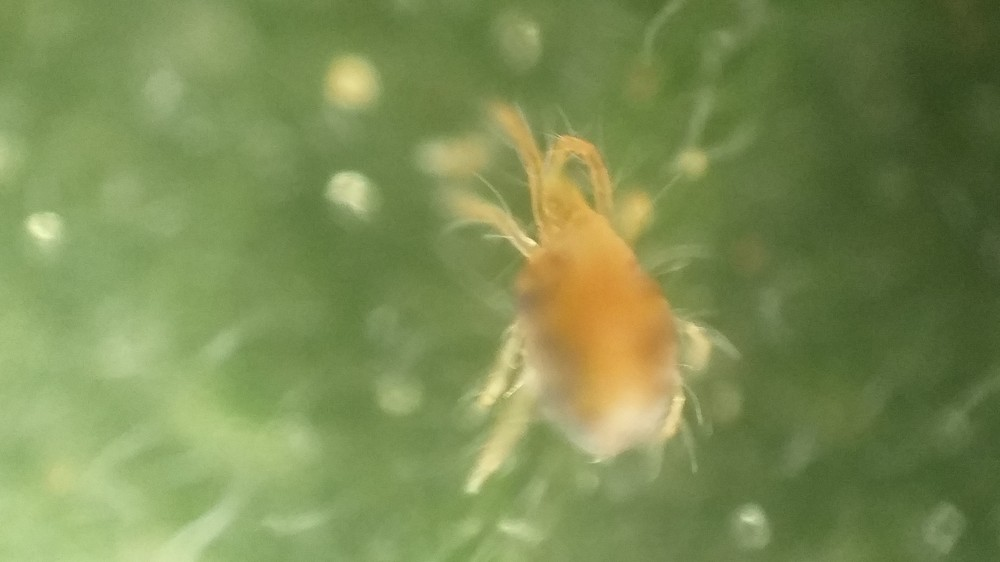Aracnido Rojo: (417, 95, 730, 509)
